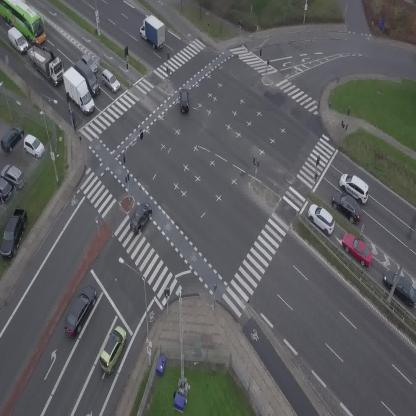bicycle: (72, 114, 79, 132)
car: (57, 281, 102, 339), (94, 323, 132, 377), (337, 227, 379, 270), (334, 168, 376, 207), (326, 187, 368, 226), (303, 200, 341, 237), (124, 199, 157, 236), (97, 67, 124, 94), (79, 51, 101, 74), (180, 89, 189, 112)
lorry: (17, 33, 72, 88), (58, 63, 97, 118), (133, 11, 175, 52), (72, 57, 104, 98), (3, 25, 33, 55)
